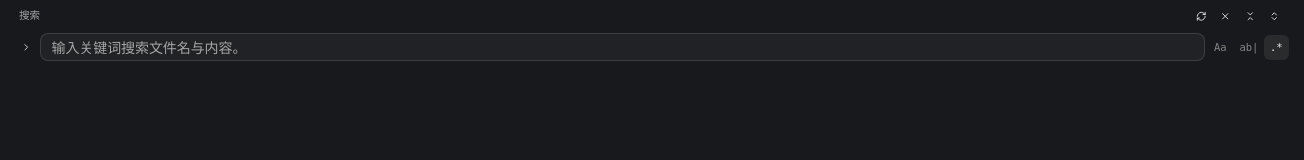
Test case: invalid regex › shows an inline error and does not search
Type "([broken" into the field labelled "搜索" at (622, 47), box [40, 33, 1204, 61]
Wait 500 ms
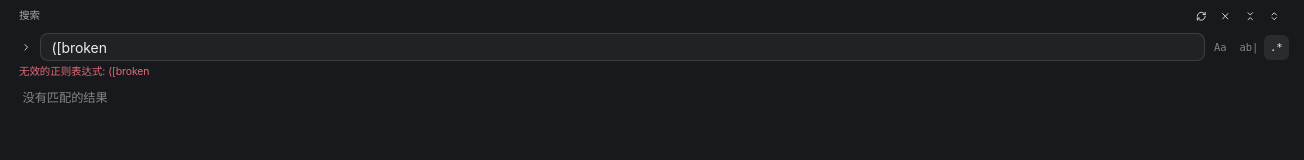
Expected: the message reads "无效的正则表达式: ([broken", [19, 65, 150, 78]
